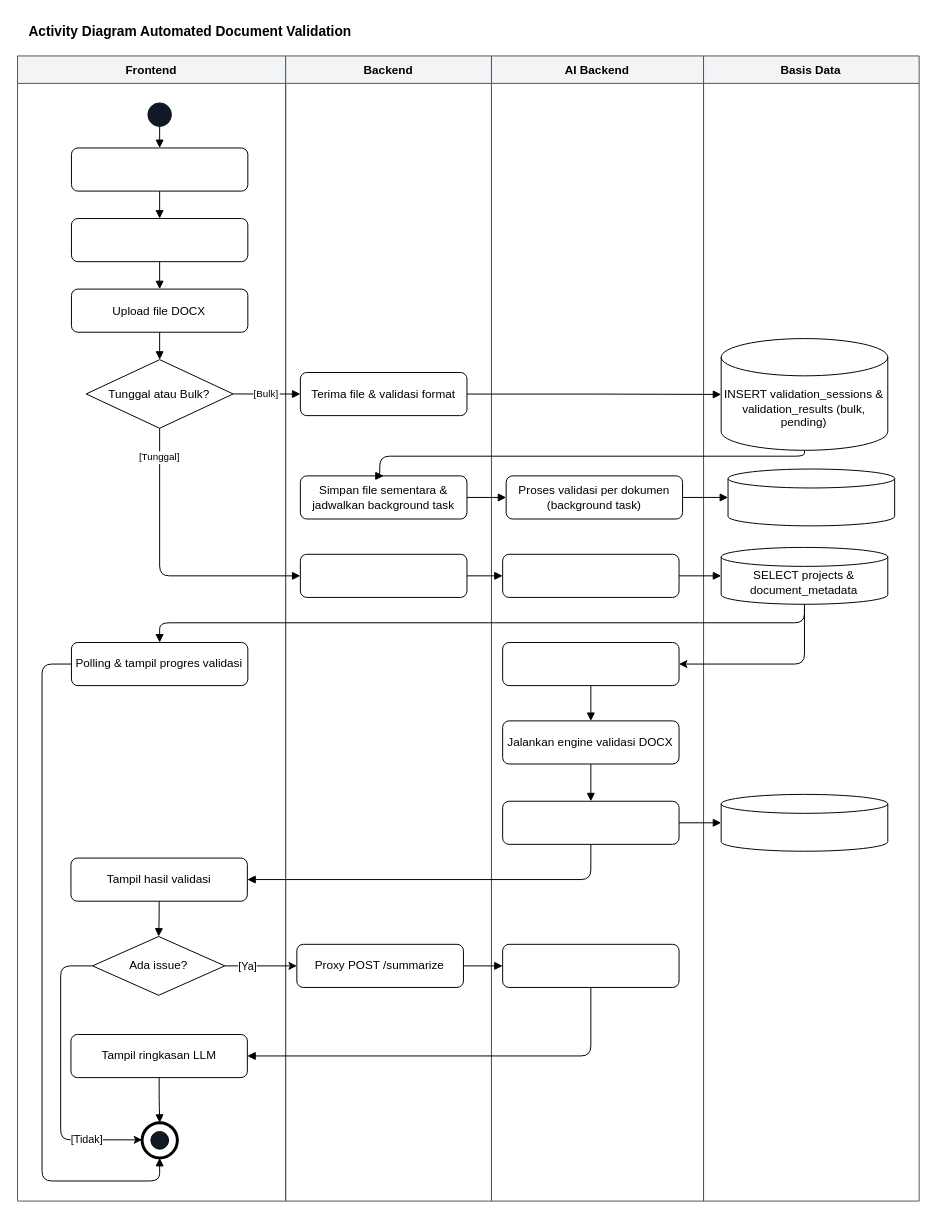
Image size: 946x1219. Some labels were removed from this diagram. The centre of each missing label's shape, as x and y in pixels:
Ambil metadata rules dokumen: point 590,664
Buka halaman Validasi Dokumen: point 159,169
Generate ringkasan LLM: point 590,965
INSERT validation_sessions & validation_results: point 804,822
Pilih skema PKM & tahun: point 159,240
Susun ValidationResult (pass / fail / warning): point 590,822
Terima & proxy ke AI Backend: point 383,575
UPDATE validation_results per item: point 811,497
Validasi format & ukuran file: point 590,575
